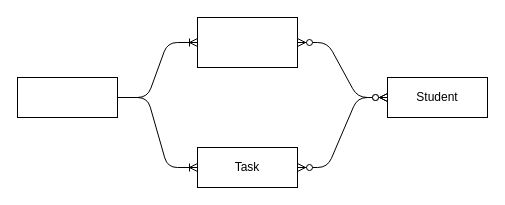
Image size: 505x205. Some labels were removed from this diagram. Here are the shapes that lost their labels. From the top down, the box of each, then its label:
(196, 16, 298, 68): Class
(16, 76, 118, 118): Teacher
